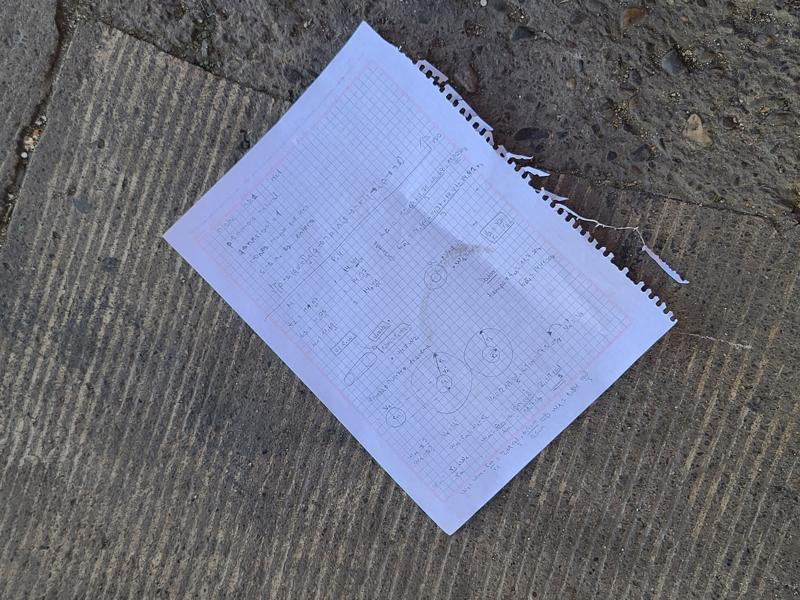papel: (160, 22, 676, 537)
